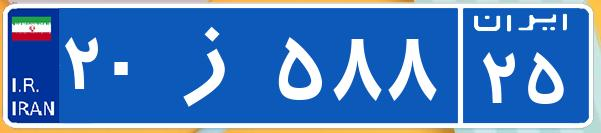0: (110, 28, 158, 105)
2: (57, 26, 110, 107), (475, 38, 525, 113)
5: (273, 28, 330, 110), (525, 38, 570, 115)
8: (385, 28, 445, 110), (330, 28, 385, 110)
ز: (158, 15, 273, 115)
